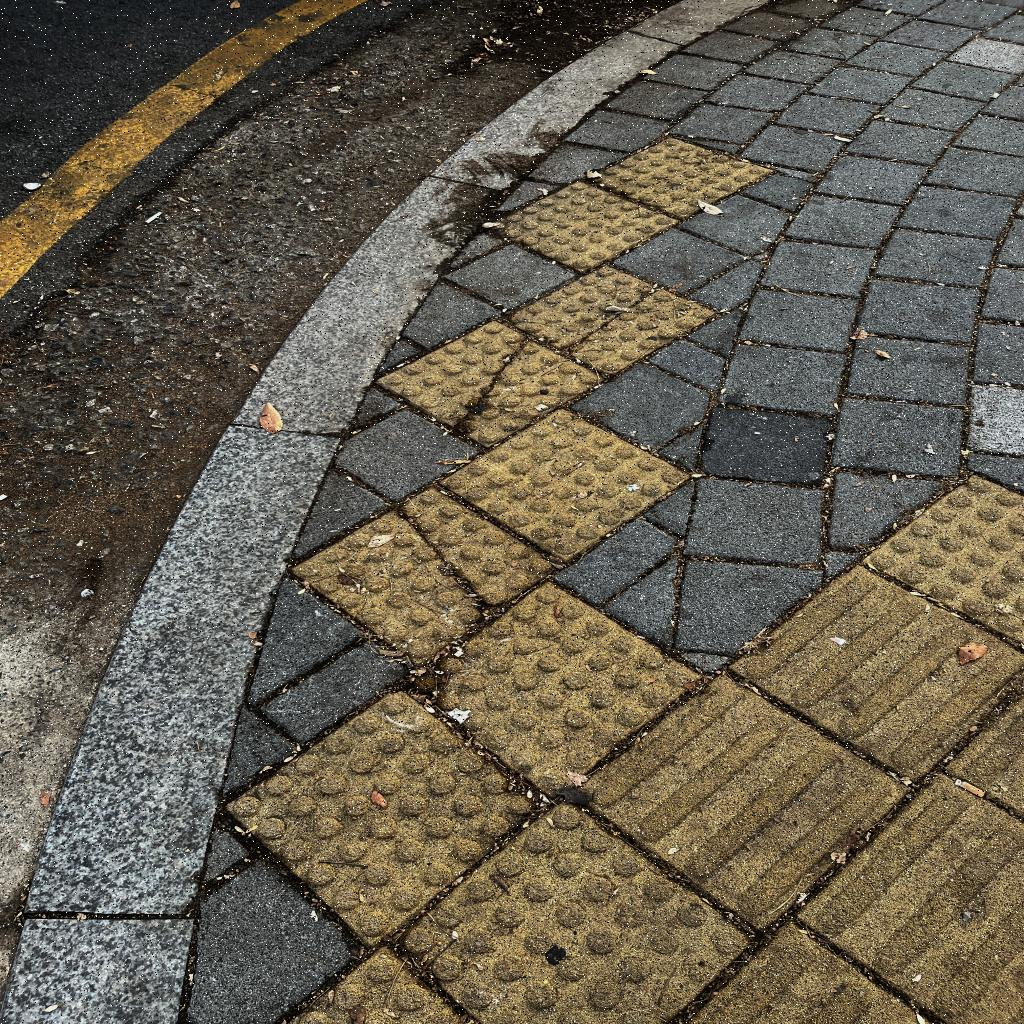Stop block broken: (293, 445, 557, 691), (378, 282, 603, 477), (503, 231, 717, 407)
Stop block normal: (227, 651, 542, 959), (407, 539, 701, 824), (440, 365, 688, 594), (484, 152, 680, 300)
Straight block normal: (572, 627, 909, 957), (730, 537, 1024, 799)
